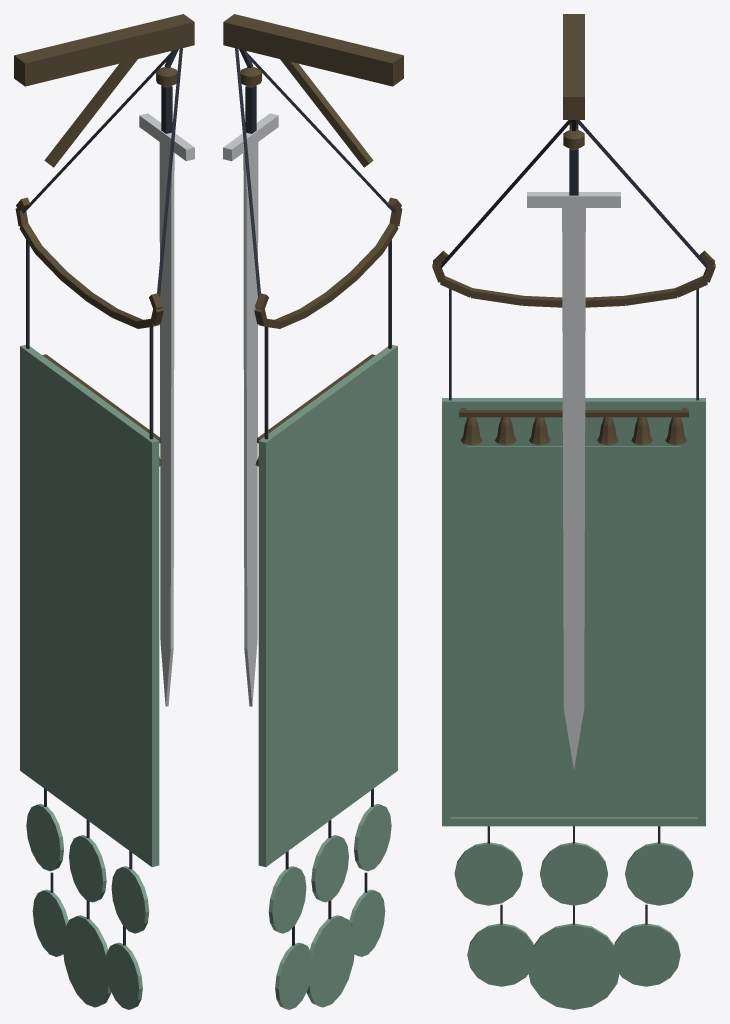
Rendered from SM_Mark_DovmontSword.glb.
The picture shows the model from 3 angles, left to right: view 1: azimuth 30°, elevation 25°; view 2: azimuth 150°, elevation 25°; view 3: azimuth 270°, elevation 25°; orthographic projection.
Visible parts, largest first — view 1: SM_Mark_DovmontSword; view 2: SM_Mark_DovmontSword; view 3: SM_Mark_DovmontSword.
Boxes of the visible parts, <box> form: SM_Mark_DovmontSword: <box>14,14,194,1009</box>; SM_Mark_DovmontSword: <box>223,14,403,1009</box>; SM_Mark_DovmontSword: <box>432,14,715,1009</box>.
Bounding box in the file's own units: 2.3 × 12.45 × 3.33.
